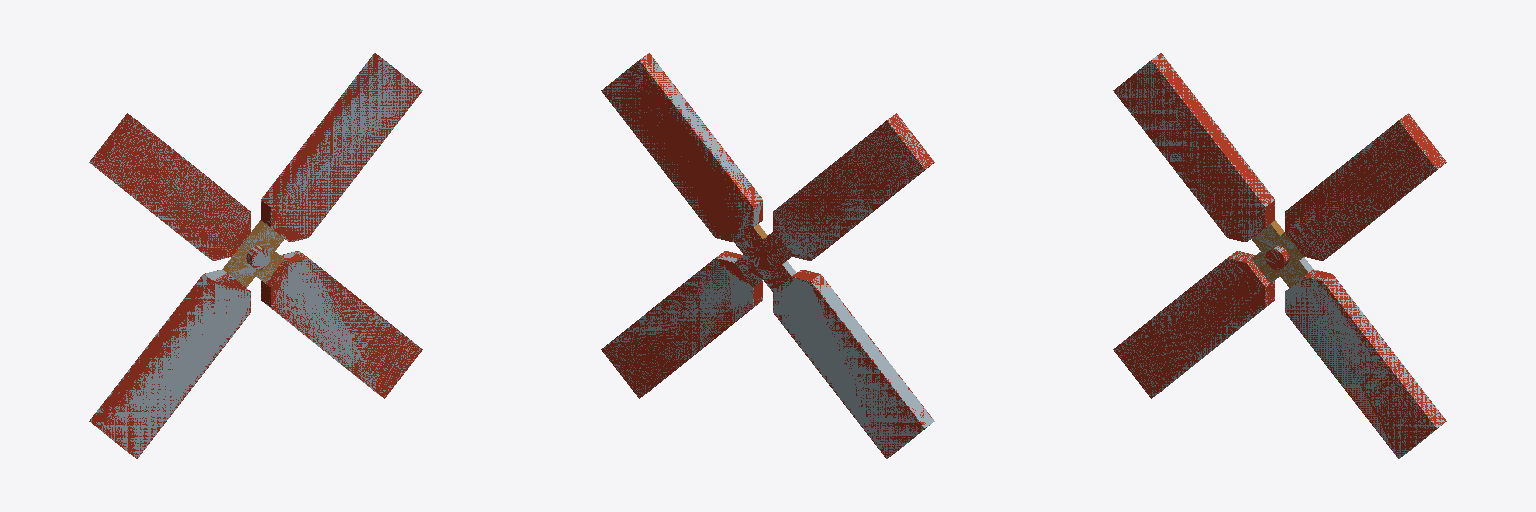
The model's file is Windmill_blades_01.obj.
3 views of the same model, side by side, from view 1: azimuth 30°, elevation 25°; view 2: azimuth 150°, elevation 25°; view 3: azimuth 330°, elevation 25° (orthographic).
Parts seen in each view (by area): view 1: Mesh1 Windmill_blades Model; view 2: Mesh1 Windmill_blades Model; view 3: Mesh1 Windmill_blades Model.
Part boxes in pixels (x1,y1,x2,y2): Mesh1 Windmill_blades Model: (89, 53, 422, 458); Mesh1 Windmill_blades Model: (601, 53, 934, 458); Mesh1 Windmill_blades Model: (1113, 53, 1446, 458).
Size of the model in its own units: 3.72 by 3.72 by 0.2.